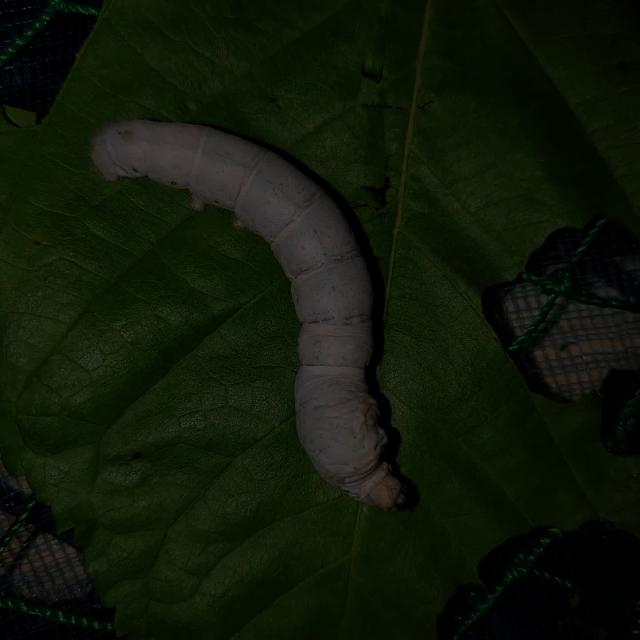Healthy: (71, 88, 452, 538)
